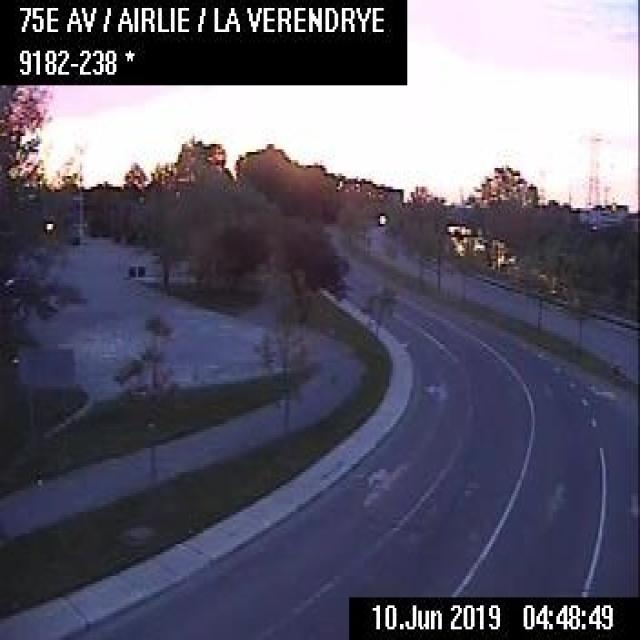vehicle: (377, 208, 388, 224)
